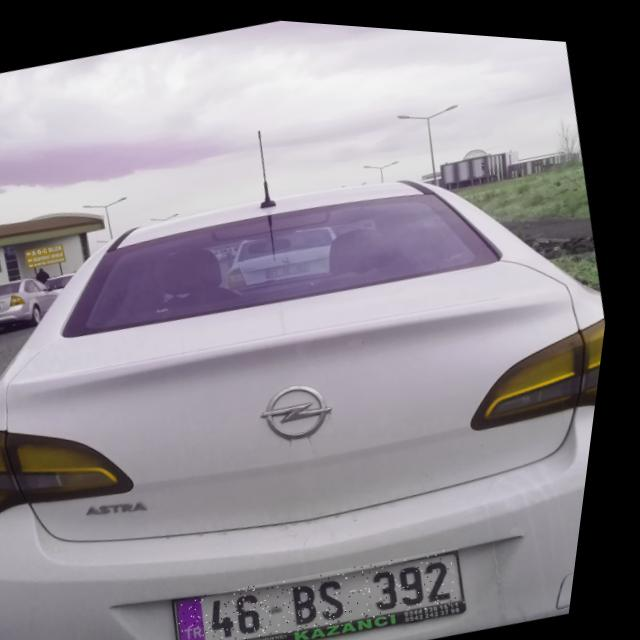license_plate: (182, 523, 486, 640)
